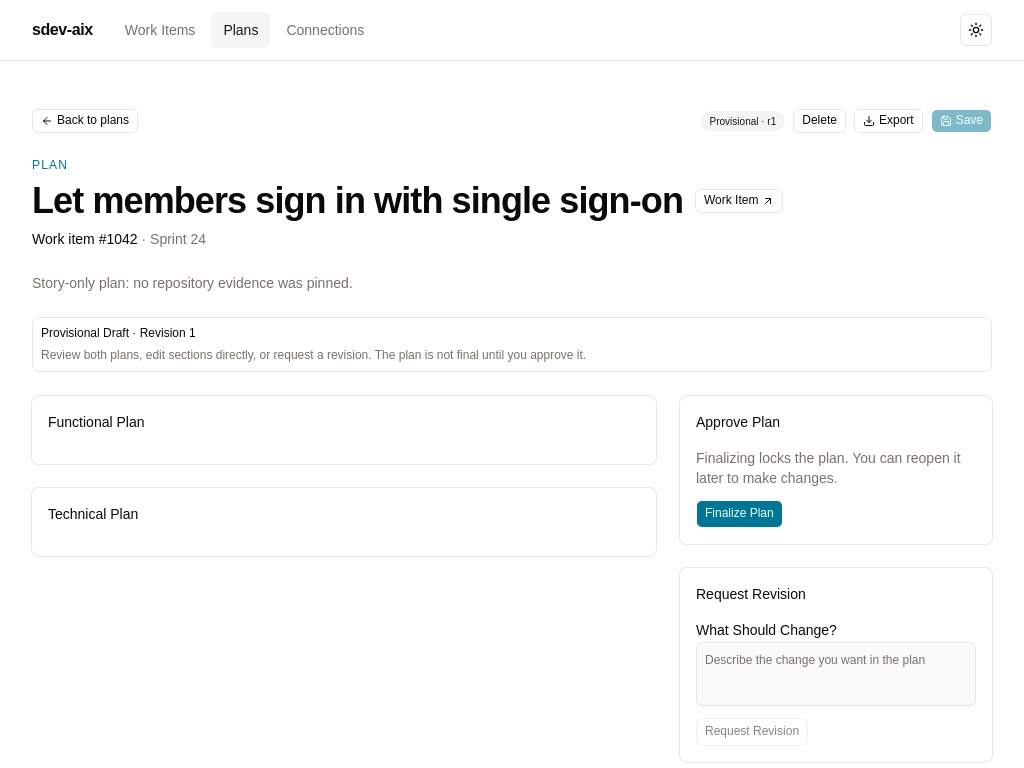
it: plans › keeps the plan open and shows an error if deletion fails
Click the button "Delete".
click(820, 121)  # box [793,109,846,133]
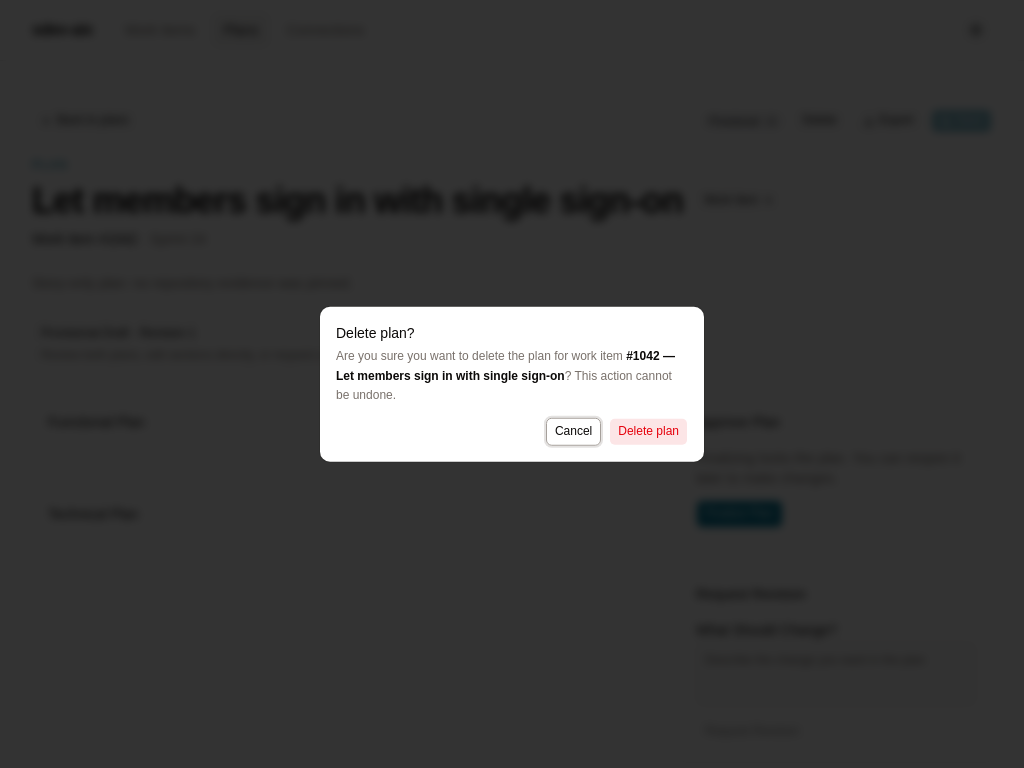
Click the button "Delete plan".
click(649, 431)  # box [609,417,688,445]
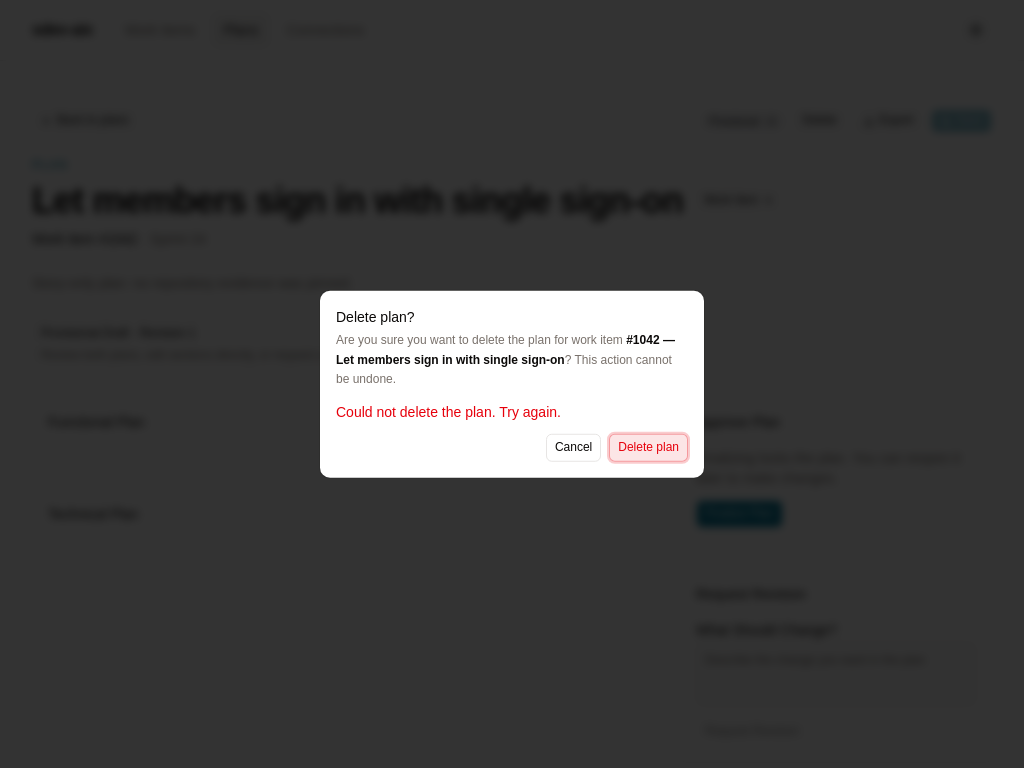
expect the dialog is shown: met, box [320,291,704,477]
expect the button "Cancel" is enabled: met, box [546,433,601,461]
expect the text "Could not delete the plan. Try again." is shown: met, box [336,403,561,419]
